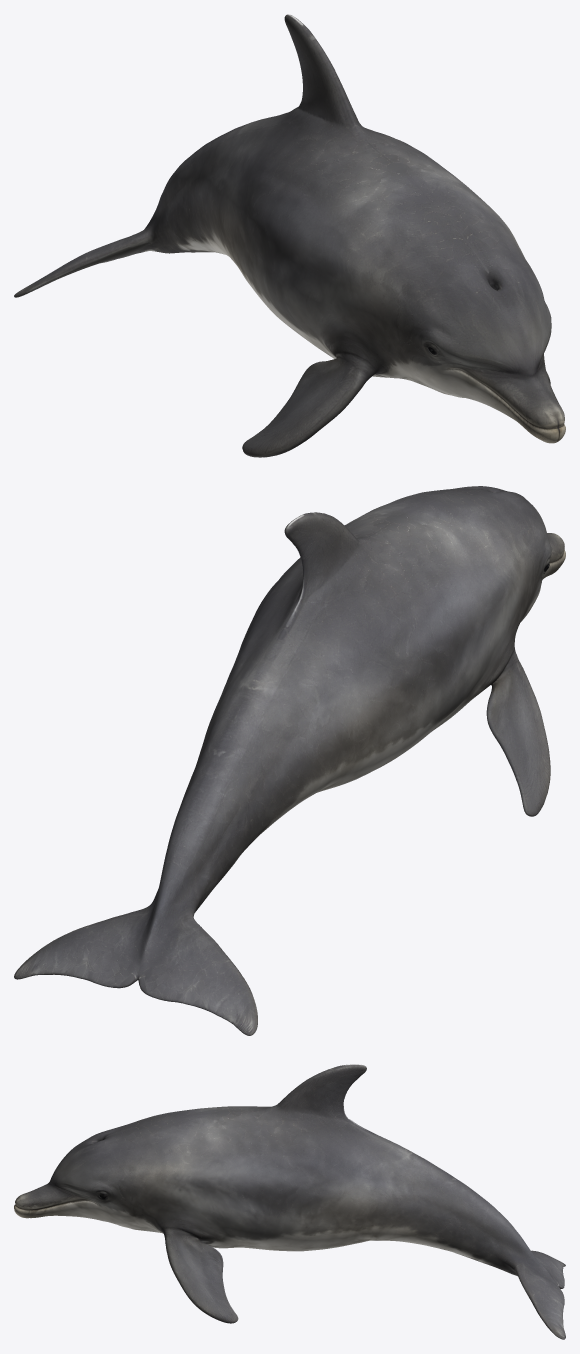
The model's file is delfin_original.glb.
3 views of the same model, one above another, from view 1: azimuth 30°, elevation 25°; view 2: azimuth 150°, elevation 25°; view 3: azimuth 270°, elevation 25° (orthographic). The views are drawn at different scales.
Bounding box in the file's own units: 0.7484 × 0.9036 × 1.9.
1 material, 1 textured.
